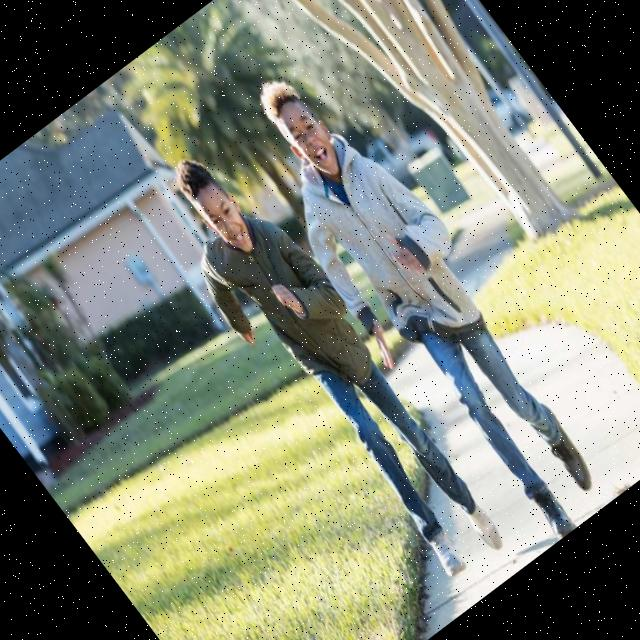Person: (206, 46, 640, 560), (132, 130, 523, 600)
